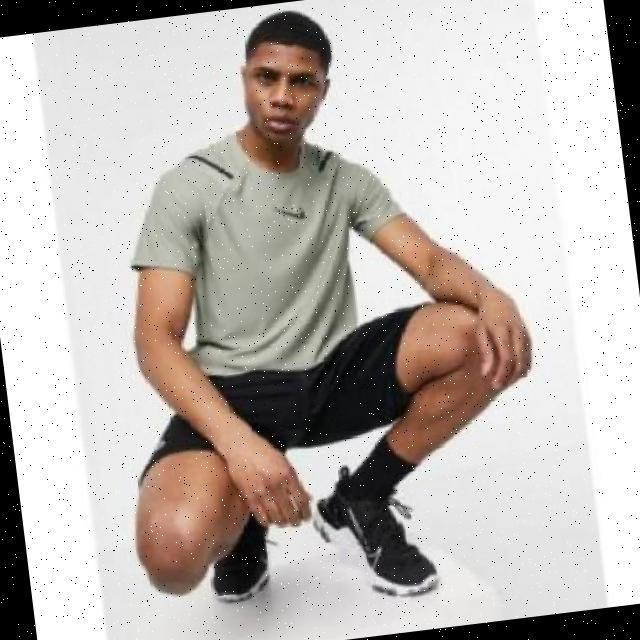Nike: (275, 203, 308, 221)
